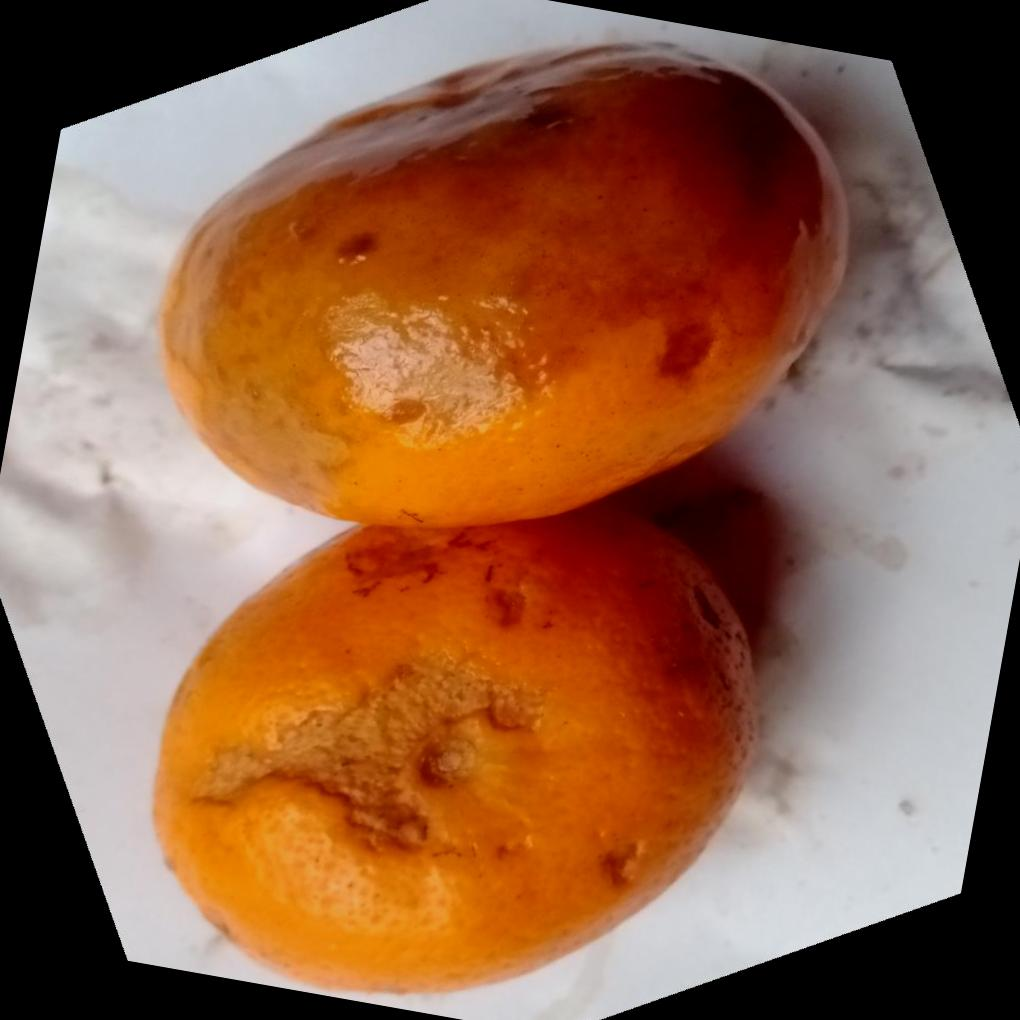FreshOrange: (150, 36, 854, 993)
